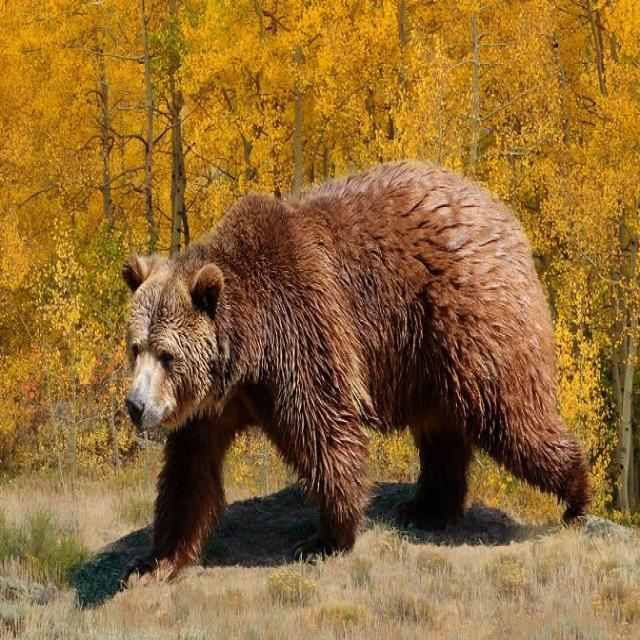bear: (99, 162, 613, 546)
